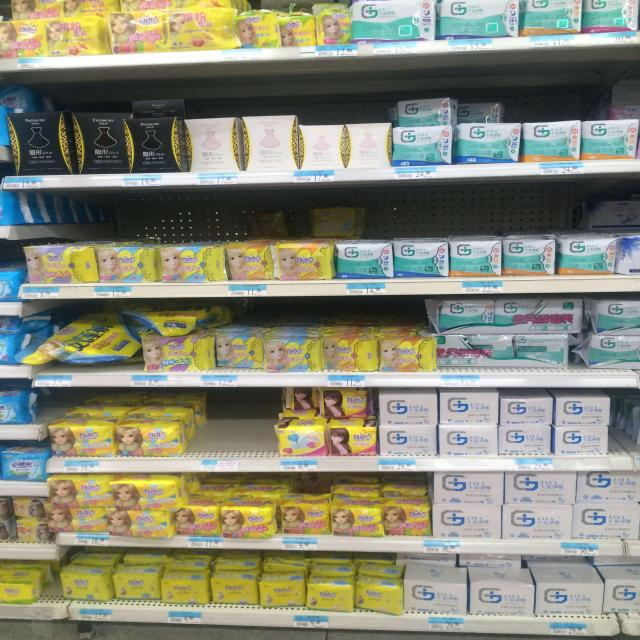void: (43, 183, 633, 240), (178, 79, 393, 119), (231, 297, 422, 332), (494, 72, 617, 121), (197, 393, 275, 450)
